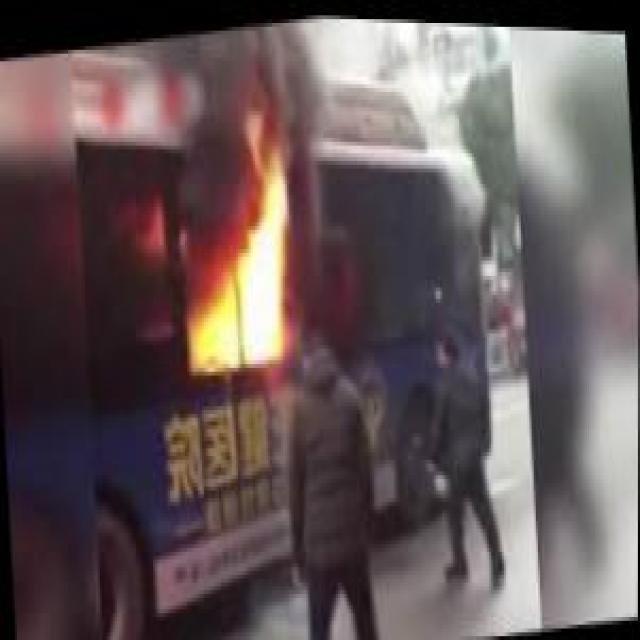Fire: (151, 88, 321, 399)
Smoke: (160, 23, 238, 230)
